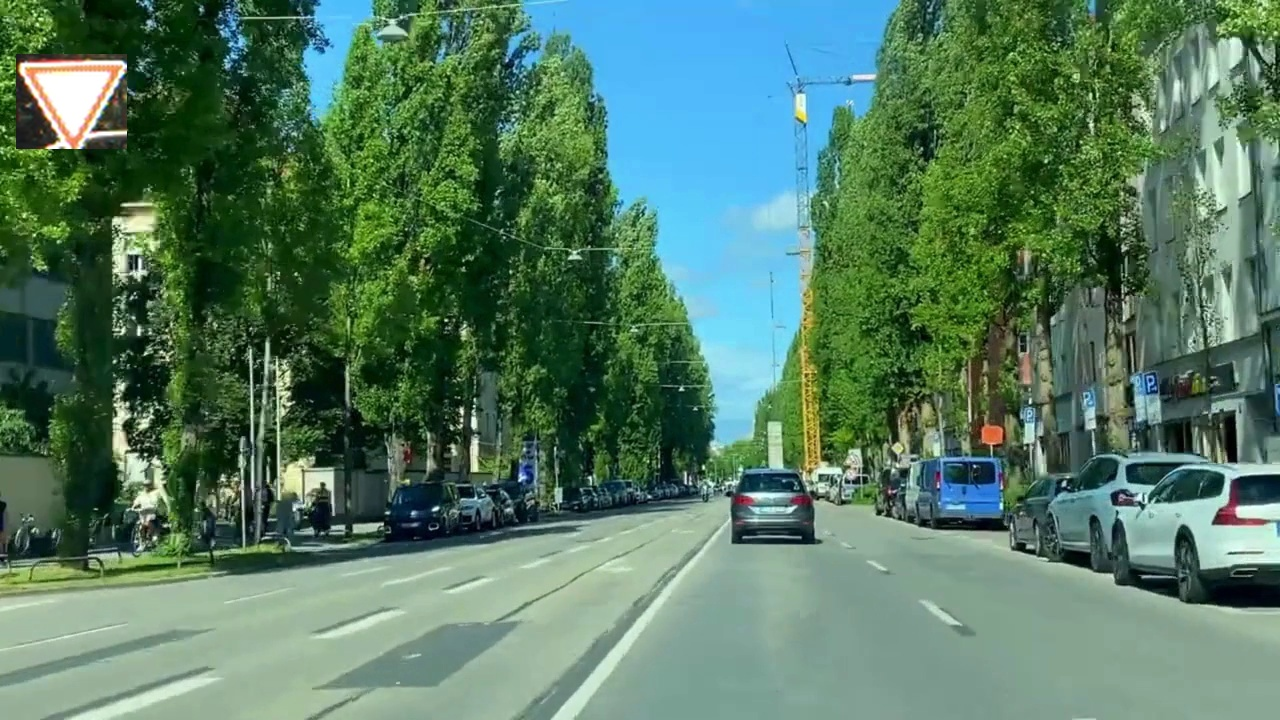Yield: (16, 54, 127, 149)
